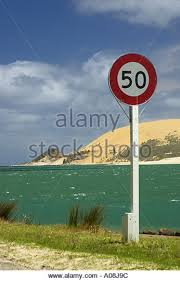Speed_limit_50km: (107, 52, 159, 106)
